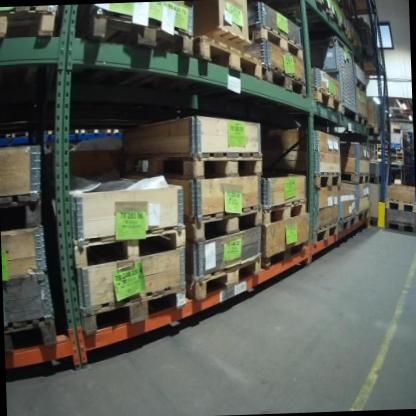pallet: (77, 3, 195, 64), (79, 285, 190, 341), (75, 220, 190, 270), (124, 152, 263, 183), (190, 248, 264, 303), (195, 30, 263, 89), (189, 205, 266, 246), (4, 312, 59, 362), (243, 21, 305, 61), (0, 188, 46, 235), (262, 62, 309, 102), (0, 8, 60, 39), (265, 239, 310, 272), (263, 198, 309, 226), (296, 0, 338, 28), (309, 87, 344, 119), (303, 174, 344, 192), (313, 222, 340, 249), (340, 168, 375, 186), (385, 217, 416, 237), (336, 11, 353, 45), (338, 212, 360, 235), (385, 199, 414, 214), (358, 207, 374, 224), (357, 114, 372, 131), (352, 39, 365, 51), (356, 75, 367, 89)
stillage: (306, 35, 360, 128), (355, 21, 384, 68)
